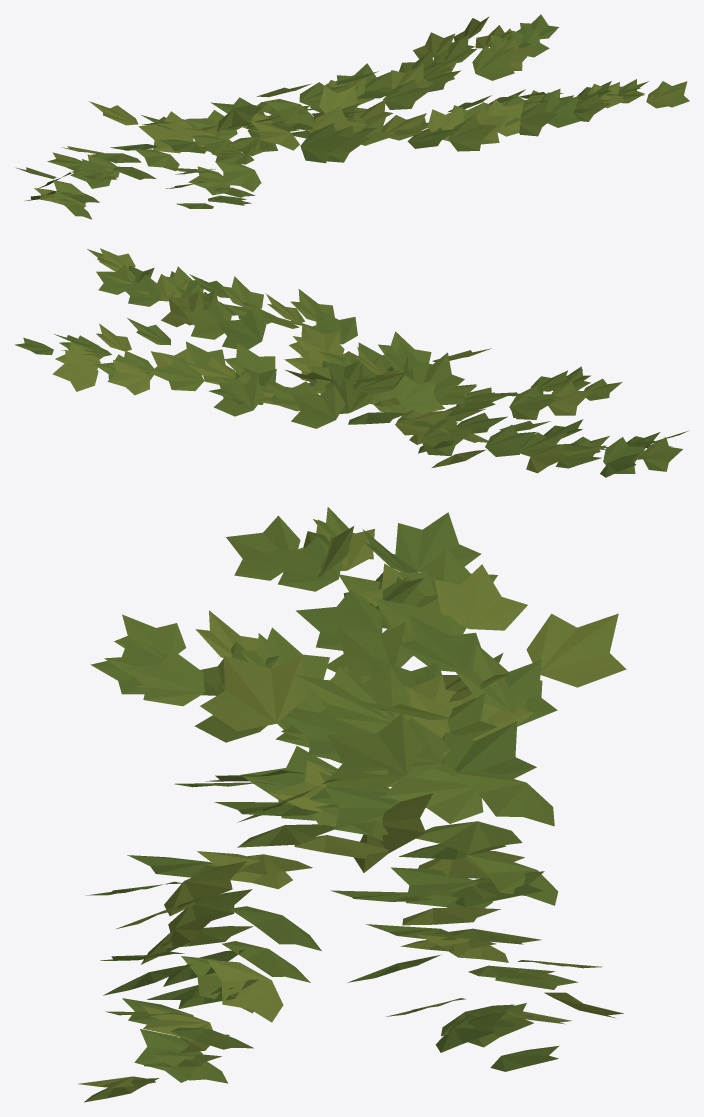
File: zone1-decor2.glb
The picture shows the model from 3 angles, top to bottom: view 1: azimuth 30°, elevation 25°; view 2: azimuth 150°, elevation 25°; view 3: azimuth 270°, elevation 25°; orthographic projection. The views are drawn at different scales.
Parts seen in each view (by area): view 1: vine-horizontal-b.001; view 2: vine-horizontal-b.001; view 3: vine-horizontal-b.001.
Boxes of the visible parts, x1,y1,x2,y2 form: vine-horizontal-b.001: (16, 14, 689, 219); vine-horizontal-b.001: (14, 248, 688, 477); vine-horizontal-b.001: (78, 507, 626, 1102).
Size of the model in its own units: 7.01 by 0.5164 by 2.74.
Materials: 1 (1 with a texture image).
